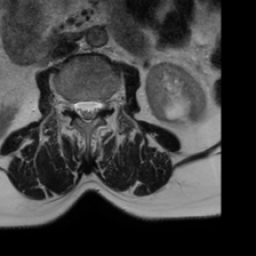CCS_normal: (82, 91, 90, 131)
LFS_normal: (101, 91, 110, 116)
LLS_normal: (90, 91, 101, 123)
RFS_normal: (64, 89, 73, 119)
RLS_normal: (73, 92, 82, 124)
